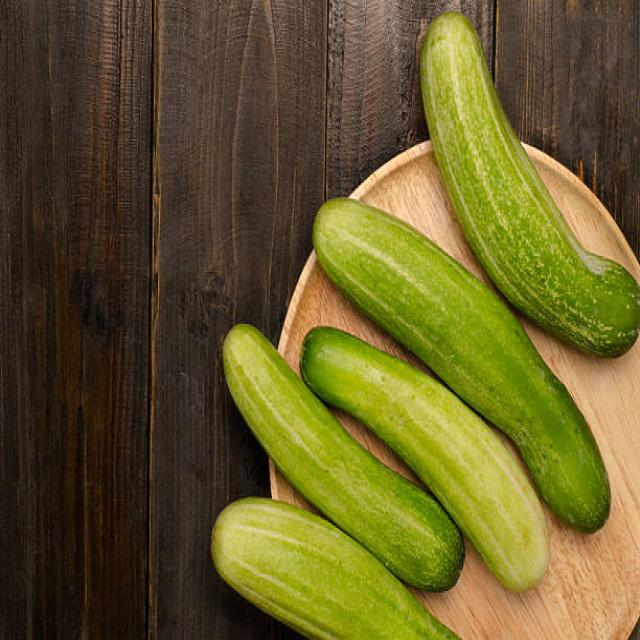cucumber: (312, 196, 610, 532), (422, 9, 640, 356), (300, 323, 550, 592), (222, 323, 466, 592), (211, 499, 464, 640)
